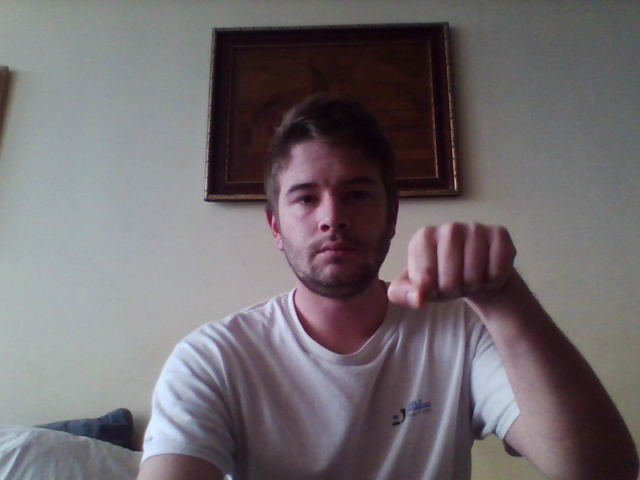da: (386, 222, 520, 311)
